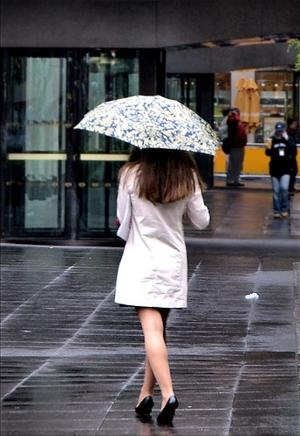person: (116, 145, 211, 429)
